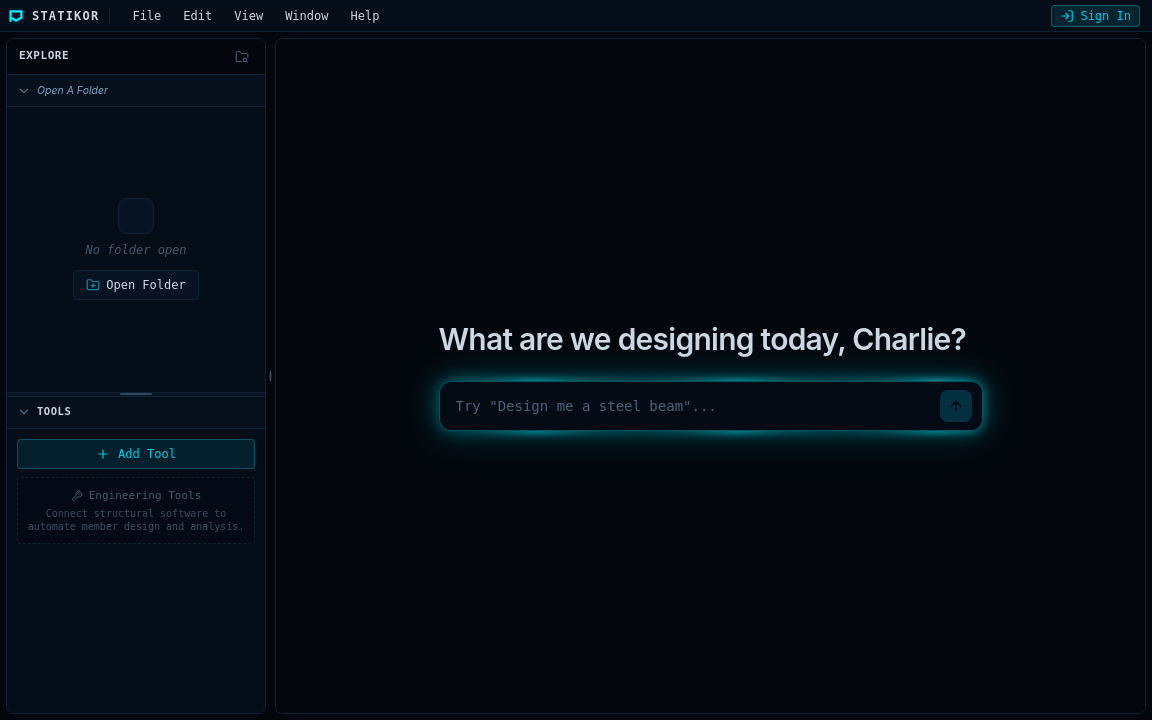
App component › handles web prompt fallback for folder selection
The width and height of the screenshot is (1152, 720).
Click the button titled "Open Project Folder". click: x=242, y=56
box: top-left (231, 46), bottom-right (253, 68)
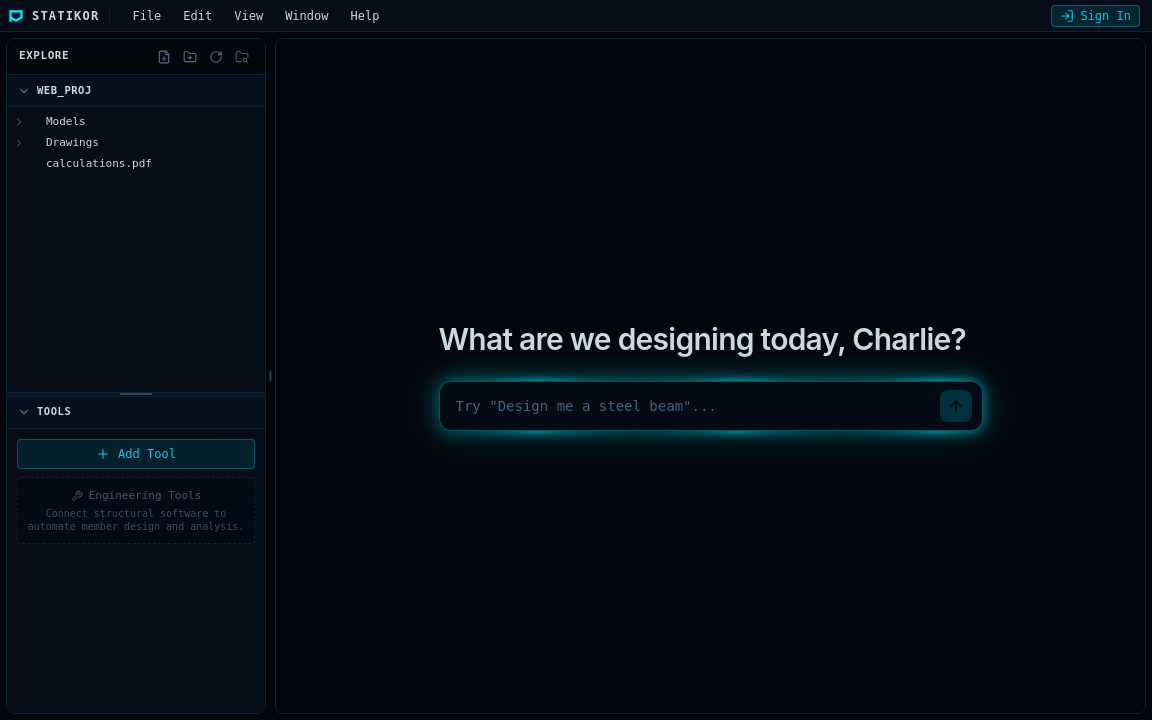
Expected: the text "web_proj" is shown, top-left (37, 83), bottom-right (92, 98)
